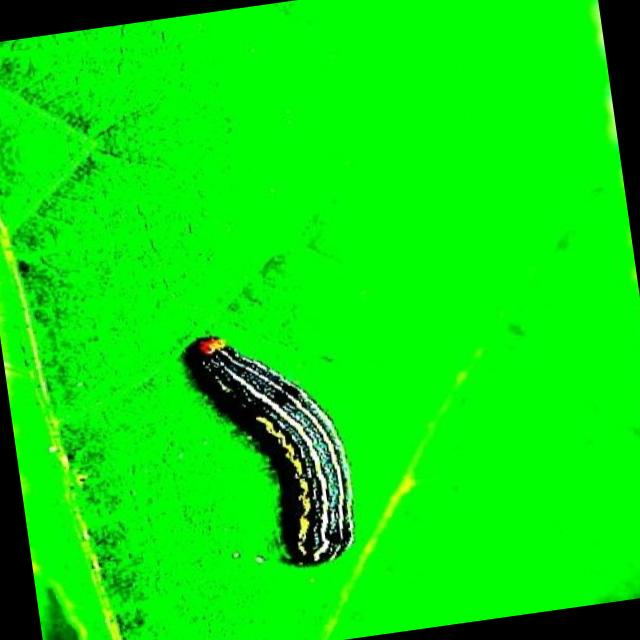Armyworm: (116, 296, 436, 611)
